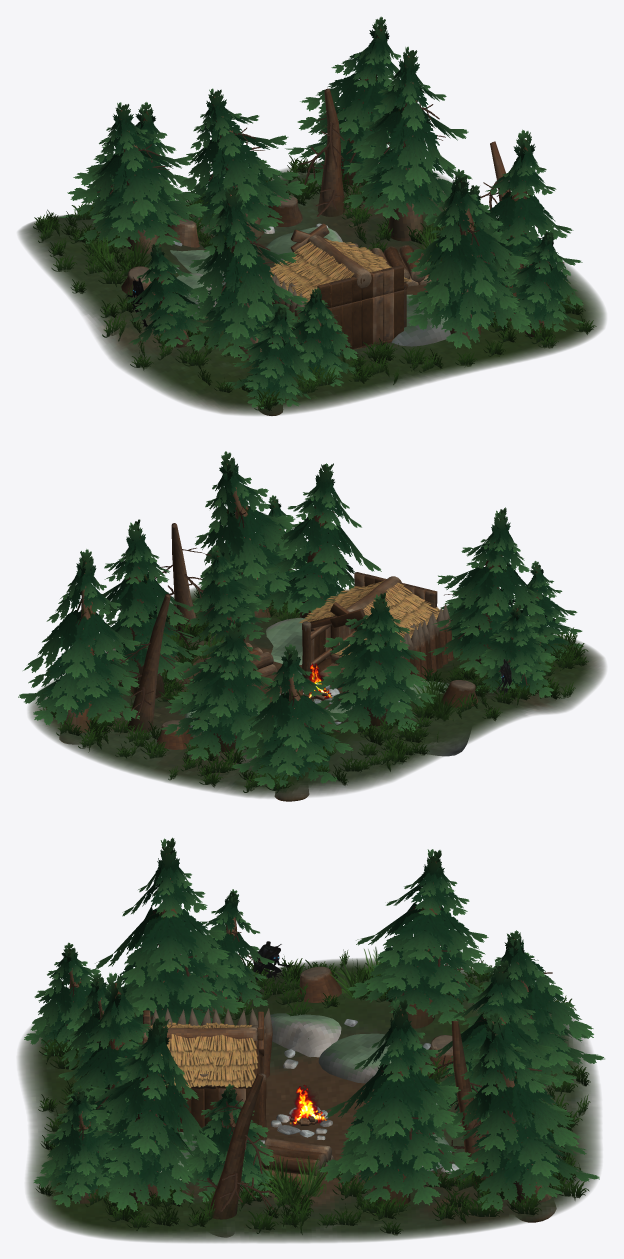
File: Valheim-3d.glb
The picture shows the model from 3 angles, top to bottom: view 1: azimuth 30°, elevation 25°; view 2: azimuth 150°, elevation 25°; view 3: azimuth 270°, elevation 25°; orthographic projection. The views are drawn at different scales.
Visible parts, largest first — view 1: Alberi, Terrain, Casa, Sassi, Tronchi, ErbaNew.001; view 2: Alberi, Terrain, Casa, Sassi, Tronchi, ErbaNew.001; view 3: Alberi, Terrain, Casa, Sassi, Tronchi, Fire, ErbaNew.004, ErbaNew.003, GreyDwarf, ErbaNew.
Part boxes in pixels (<box>): Alberi: <box>58,16,583,415</box>; Terrain: <box>18,160,605,415</box>; Casa: <box>259,223,411,352</box>; Sassi: <box>170,223,450,346</box>; Tronchi: <box>370,245,431,286</box>; ErbaNew.001: <box>81,236,119,273</box>; Alberi: <box>18,451,582,801</box>; Terrain: <box>28,586,605,798</box>; Casa: <box>299,572,453,684</box>; Sassi: <box>185,617,469,756</box>; Tronchi: <box>199,642,277,677</box>; ErbaNew.001: <box>427,692,463,721</box>; Alberi: <box>24,837,604,1237</box>; Terrain: <box>18,958,601,1242</box>; Casa: <box>143,1008,272,1140</box>; Sassi: <box>160,1013,459,1180</box>; Tronchi: <box>261,1137,333,1186</box>; Fire: <box>288,1084,327,1125</box>; ErbaNew.004: <box>296,1155,327,1197</box>; ErbaNew.003: <box>262,1166,304,1206</box>; GreyDwarf: <box>246,941,289,986</box>; ErbaNew: <box>330,957,371,1001</box>.
Bounding box in the file's own units: 19.38 × 9.52 × 19.24.
8 materials, 8 textured.
